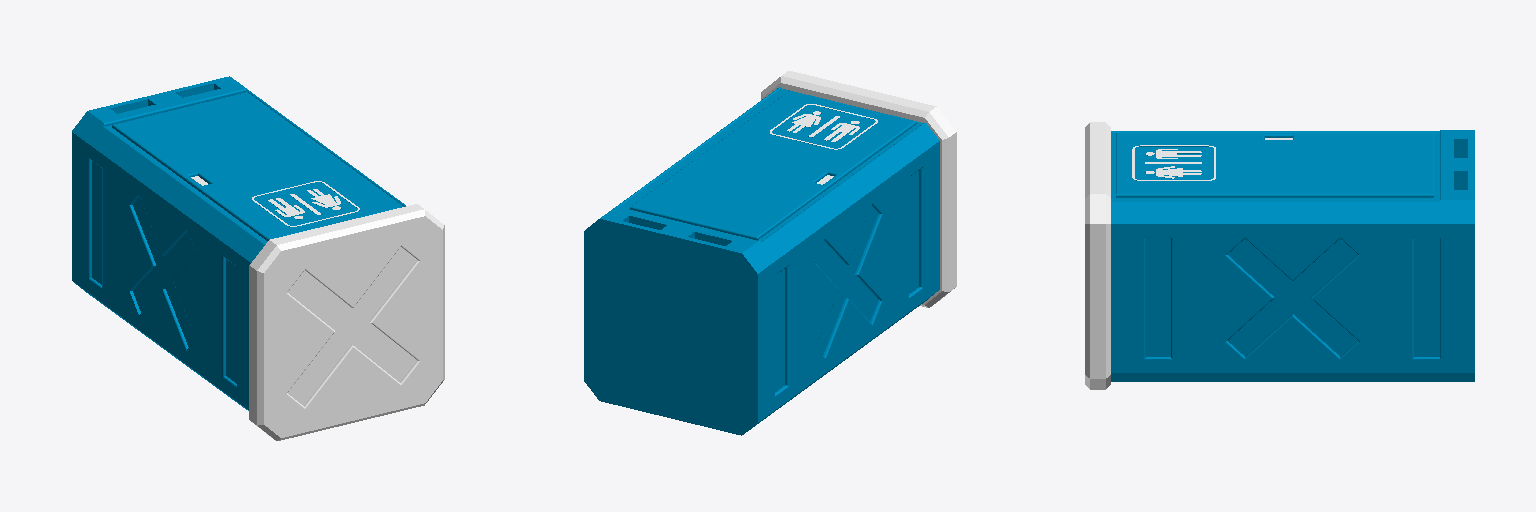
The model's file is DIXI.obj.
3 renders of one model, left to right at view 1: azimuth 30°, elevation 25°; view 2: azimuth 150°, elevation 25°; view 3: azimuth 270°, elevation 25°, orthographic.
Visible parts, largest first — view 1: Volumenkörper1; view 2: Volumenkörper1; view 3: Volumenkörper1.
Boxes of the visible parts, x1=… form: Volumenkörper1: x1=72, y1=76, x2=444, y2=440; Volumenkörper1: x1=584, y1=71, x2=956, y2=435; Volumenkörper1: x1=1085, y1=122, x2=1474, y2=389.
Bounding box in the file's own units: 1.29 × 1.29 × 2.32.